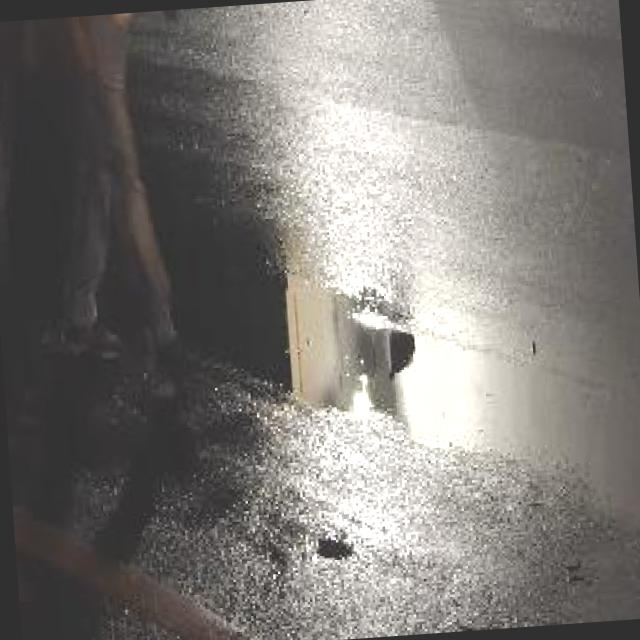stagnation: (0, 191, 628, 512)
